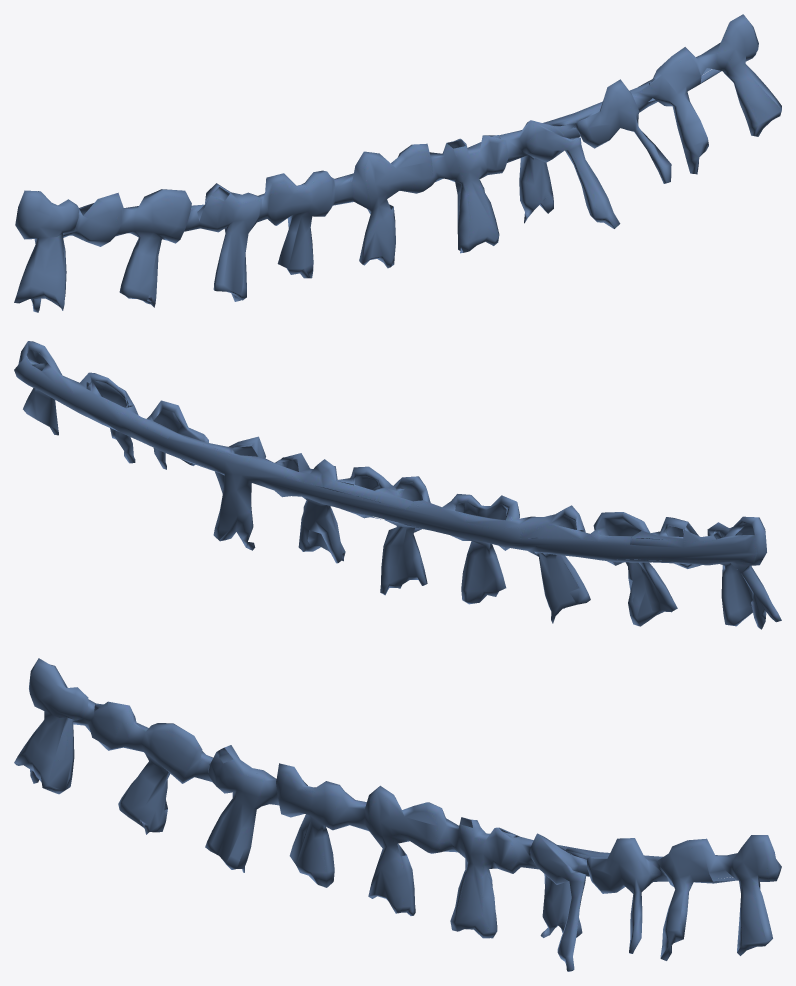
File: guirnalda_de_lazos_decorativos.glb
3 views of the same model, one above another, from view 1: azimuth 30°, elevation 25°; view 2: azimuth 150°, elevation 25°; view 3: azimuth 330°, elevation 25° (orthographic).
Parts seen in each view (by area): view 1: guirnalda_de_lazos_decorativos; view 2: guirnalda_de_lazos_decorativos; view 3: guirnalda_de_lazos_decorativos.
Boxes of the visible parts, x1,y1,x2,y2 form: guirnalda_de_lazos_decorativos: (14,14,781,312); guirnalda_de_lazos_decorativos: (14,341,781,629); guirnalda_de_lazos_decorativos: (14,658,781,971).
Size of the model in its own units: 3 by 0.6282 by 0.2818.
1 material, 1 textured.
